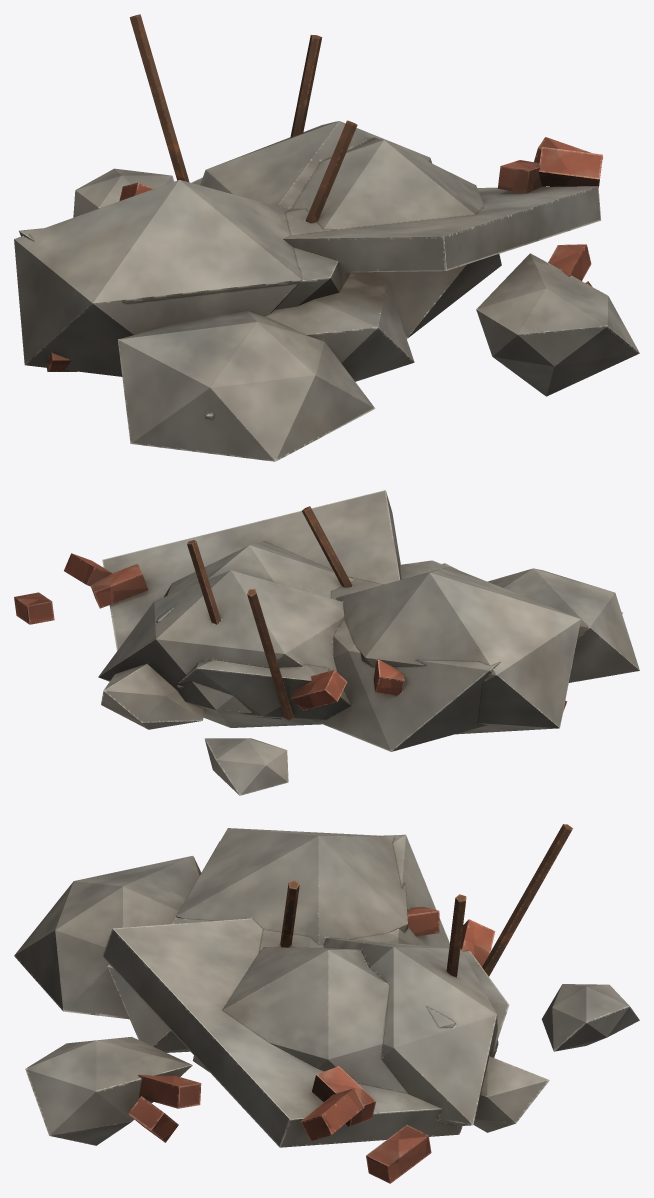
File: Escombros_Grande.glb
3 views of the same model, one above another, from view 1: azimuth 30°, elevation 25°; view 2: azimuth 150°, elevation 25°; view 3: azimuth 270°, elevation 25° (orthographic). The views are drawn at different scales.
Visible parts, largest first — view 1: Escombros_Grande; view 2: Escombros_Grande; view 3: Escombros_Grande.
Boxes of the visible parts, box(x1,y1,x2,y2) form: Escombros_Grande: box(14, 14, 639, 461); Escombros_Grande: box(14, 490, 639, 795); Escombros_Grande: box(14, 824, 639, 1183).
Bounding box in the file's own units: 9.17 × 3.67 × 8.31.
Materials: 1 (1 with a texture image).
